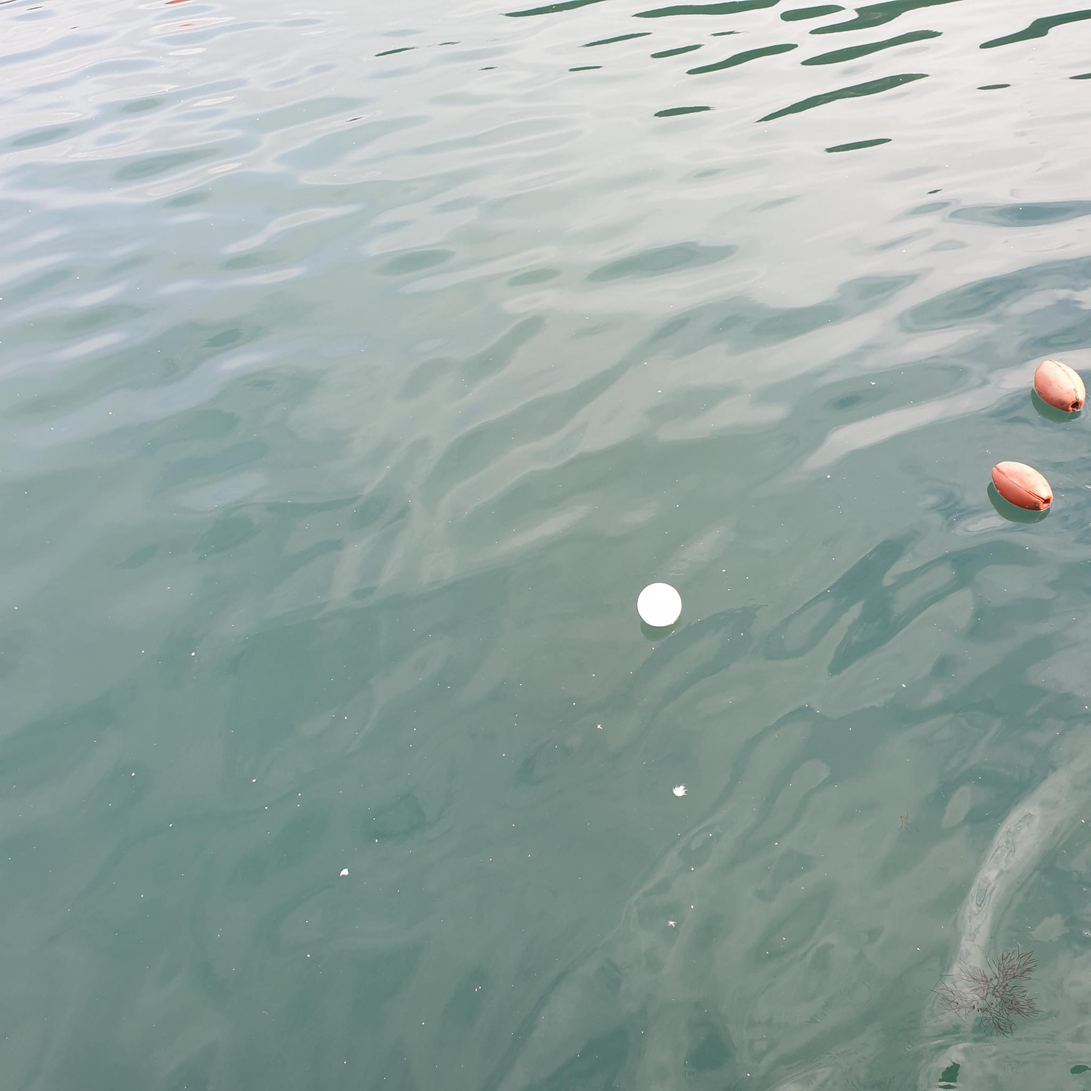sampah_terapung: (992, 461, 1054, 511), (1035, 361, 1086, 412), (637, 583, 682, 627)
